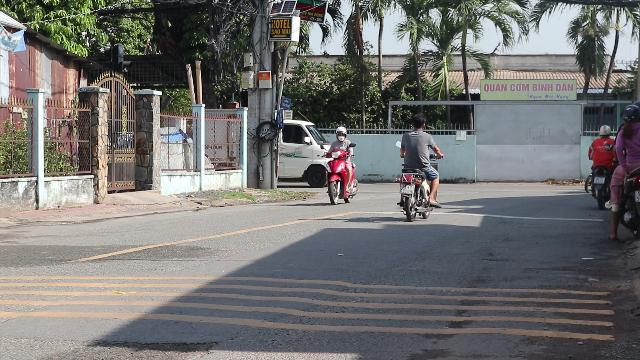helmet: (622, 104, 638, 124)
licenseplate: (400, 185, 414, 194)
motorcyclist: (394, 113, 442, 221), (608, 104, 640, 240)
nohelmet: (408, 114, 426, 131)
